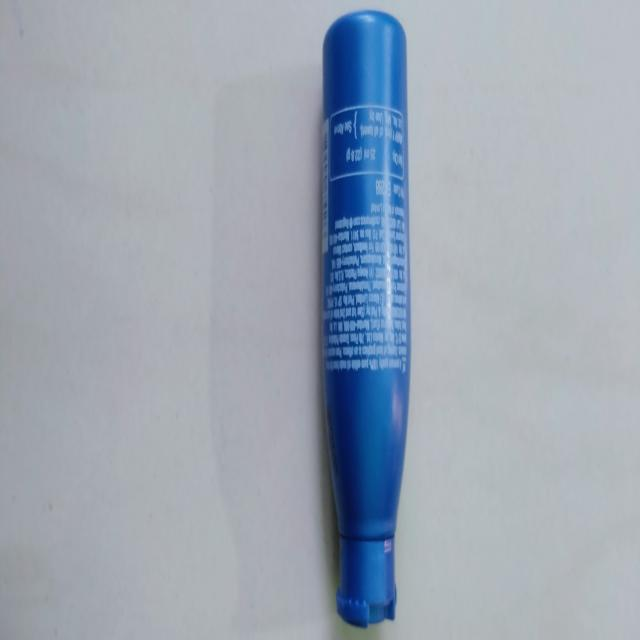oil: (321, 9, 412, 634)
